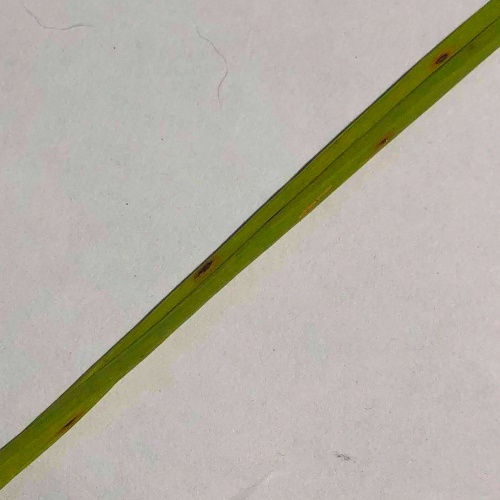Bercak Coklat: (189, 259, 219, 281), (430, 46, 454, 71)
